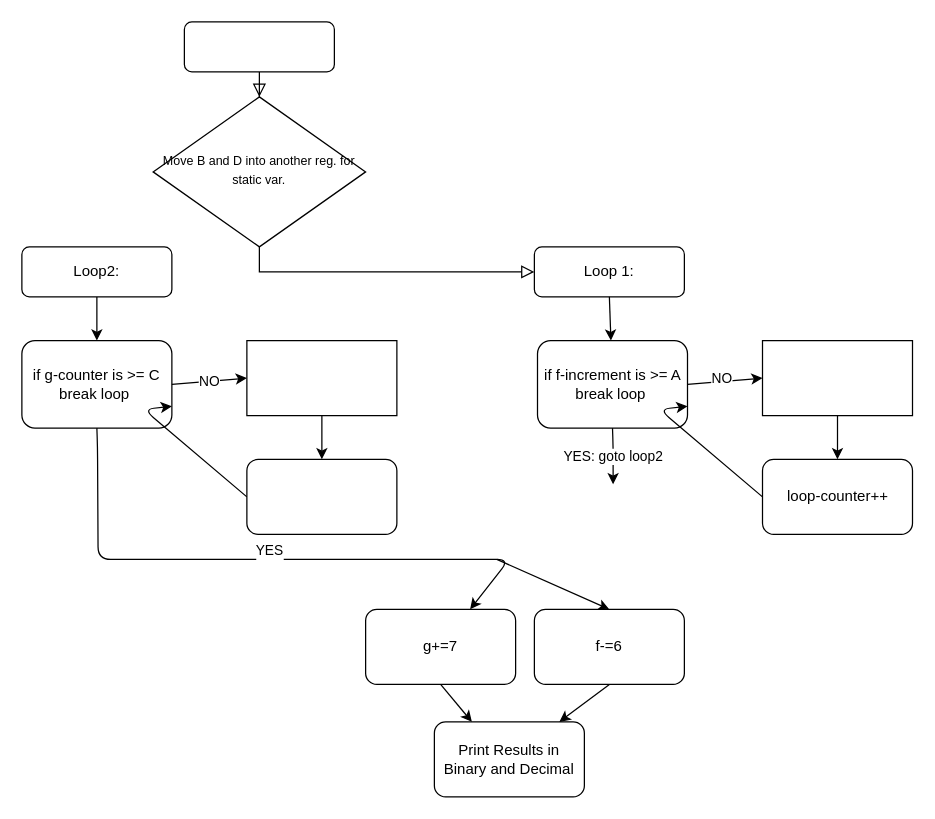
Image size: 935x819. Some labels were removed from this diagram. The centre of each missing label's shape, as x and y in pixels:
"f=f + b-static" belongs at (836,377).
"g loop-counter++" belongs at (321,496).
"g+= d-static" belongs at (321,377).
"User Input: A,B,C,D" belongs at (258,46).
